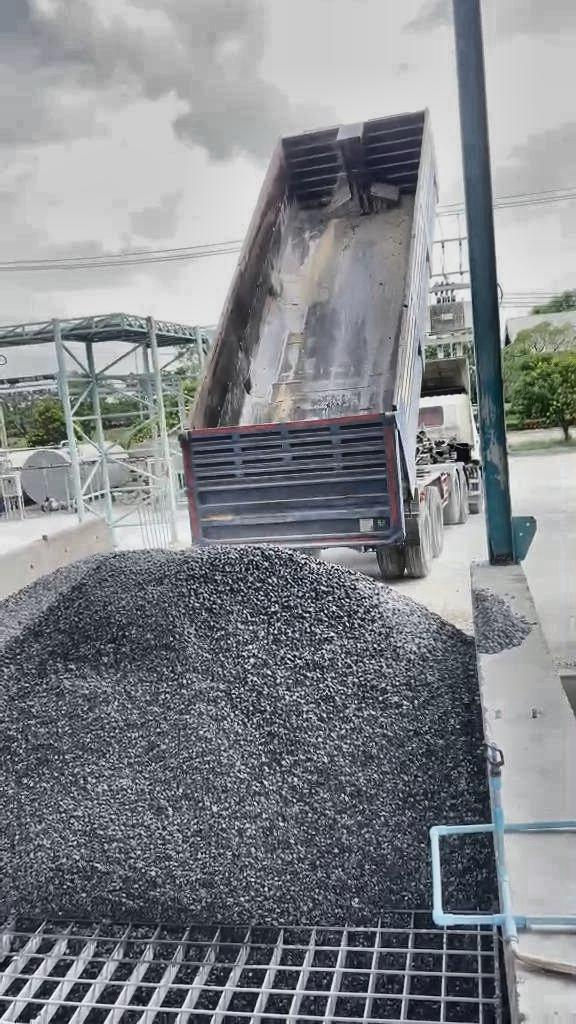gravel: (1, 546, 490, 924), (443, 836, 495, 911), (477, 595, 528, 653)
